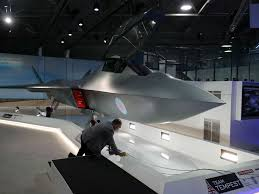fighter: (1, 47, 232, 132)
